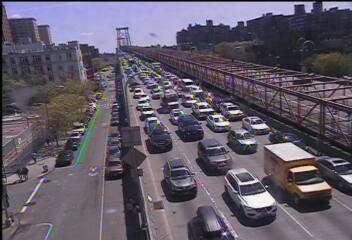neg: (198, 88, 213, 107), (110, 139, 122, 155), (100, 95, 112, 110), (106, 76, 116, 89), (220, 115, 229, 128), (102, 129, 110, 140), (96, 70, 103, 79)
pos: (10, 166, 23, 182), (27, 147, 39, 164), (18, 166, 30, 182)
